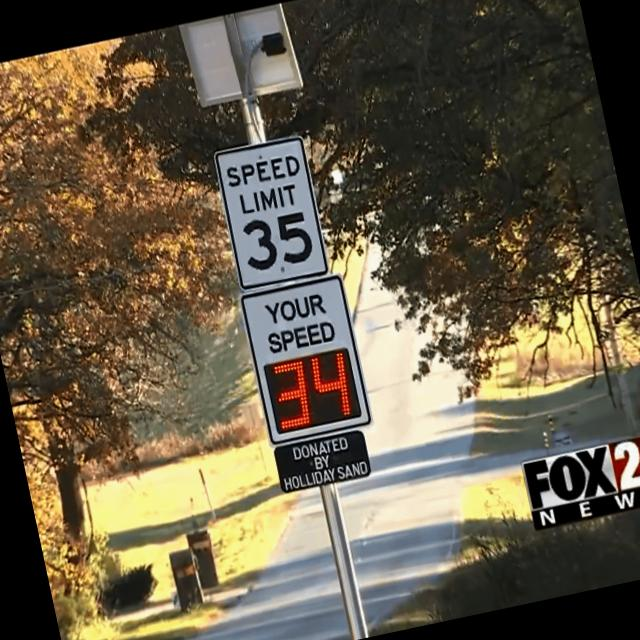Speed Limit Signs: (207, 131, 338, 294)
